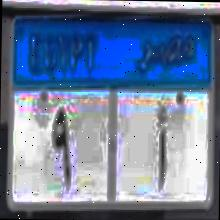9: (51, 105, 75, 185)
alif: (152, 96, 170, 184)
